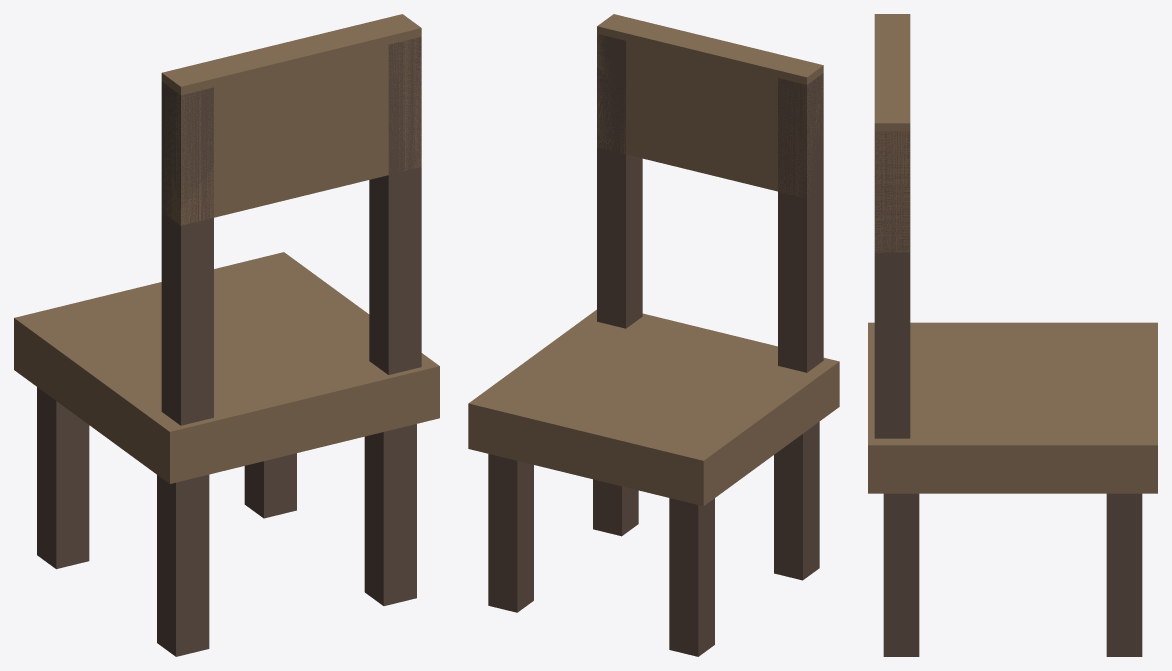
Rendered from dining_chair_detail_pbr_orm.glb.
3 views of the same model, side by side, from view 1: azimuth 30°, elevation 25°; view 2: azimuth 150°, elevation 25°; view 3: azimuth 270°, elevation 25° (orthographic). The views are drawn at different scales.
Parts seen in each view (by area): view 1: geometry_0; view 2: geometry_0; view 3: geometry_0.
Part boxes in pixels (x1,y1,x2,y2): geometry_0: (14,14,439,656); geometry_0: (468,14,839,656); geometry_0: (868,14,1157,656).
Size of the model in its own units: 0.65 by 1.32 by 0.65.
